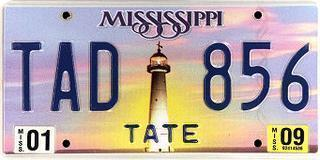placa de veiculo: (6, 7, 316, 160)
